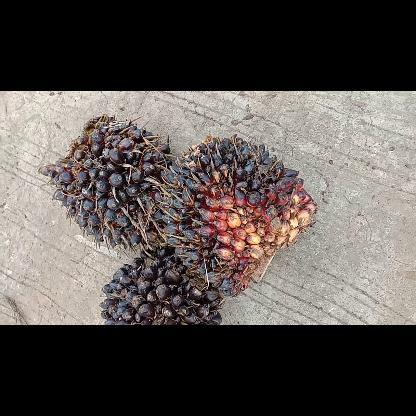TBS mentah: (158, 132, 320, 300), (32, 112, 176, 254), (96, 246, 226, 324)
